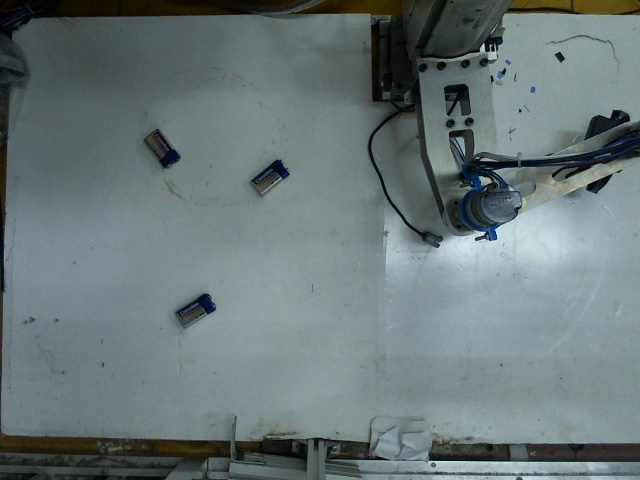battery: (246, 154, 288, 194), (170, 290, 218, 324), (141, 125, 180, 166)
